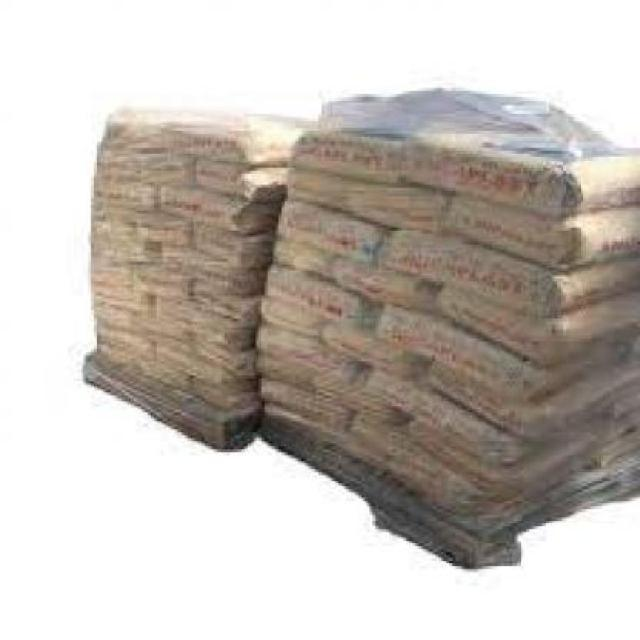gunny_bag: (354, 368, 637, 474), (375, 296, 637, 400), (384, 223, 640, 324), (414, 351, 640, 447), (403, 136, 640, 213), (438, 284, 640, 373), (259, 292, 417, 386), (455, 190, 637, 270), (277, 237, 428, 307), (289, 166, 452, 228), (280, 196, 389, 267), (265, 264, 376, 332), (152, 186, 272, 239), (299, 130, 411, 186), (259, 324, 348, 390), (155, 299, 261, 348), (96, 199, 194, 250), (150, 341, 258, 386), (92, 300, 193, 348), (259, 376, 351, 428), (163, 248, 269, 291), (95, 254, 193, 300), (98, 139, 186, 190), (188, 220, 264, 272), (163, 126, 251, 164), (193, 153, 254, 207), (191, 280, 269, 319), (95, 224, 153, 273), (194, 333, 256, 378), (107, 112, 166, 153), (98, 324, 147, 367), (96, 177, 156, 212), (93, 277, 145, 308)
